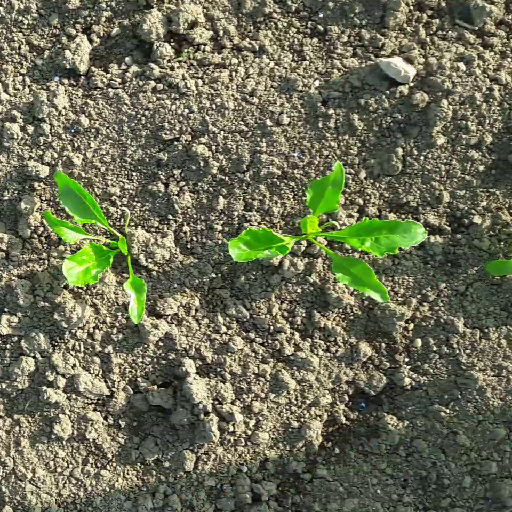sugarbeet: (227, 160, 427, 300), (42, 170, 146, 324)
weed: (173, 50, 189, 61)
